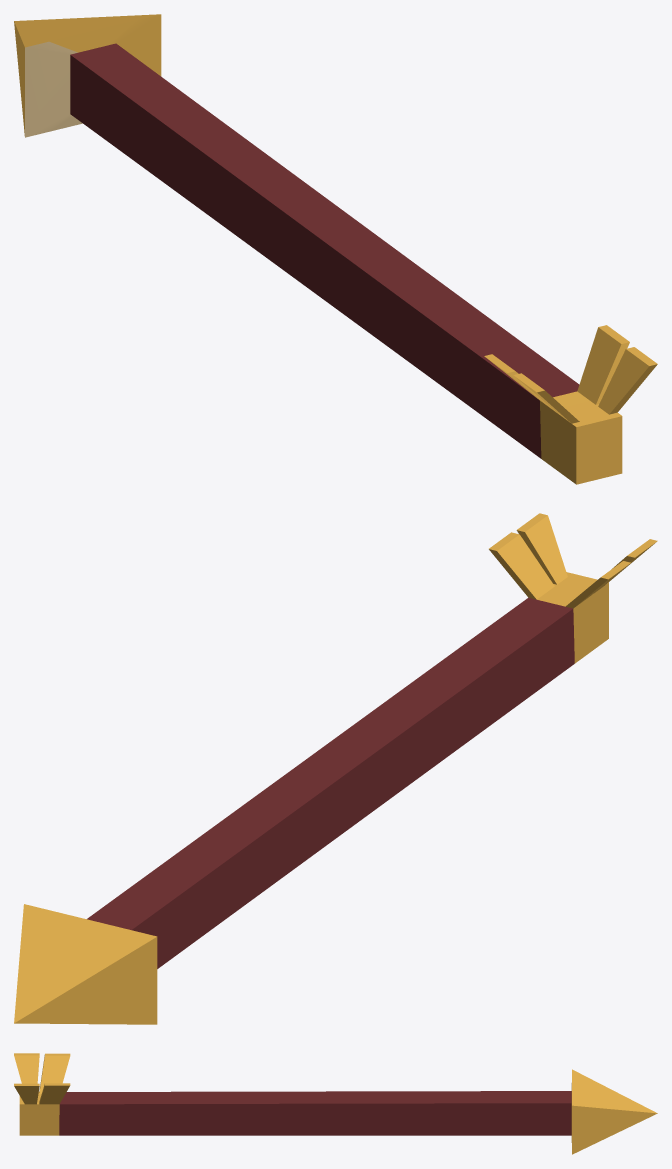
File: arrow.fbx
3 renders of one model, top to bottom at view 1: azimuth 30°, elevation 25°; view 2: azimuth 150°, elevation 25°; view 3: azimuth 270°, elevation 25°, orthographic. The views are drawn at different scales.
Visible parts, largest first — view 1: pasted__pasted__polySurface117; view 2: pasted__pasted__polySurface117; view 3: pasted__pasted__polySurface117.
Part boxes in pixels (x1,y1,x2,y2): pasted__pasted__polySurface117: [14, 14, 657, 484]; pasted__pasted__polySurface117: [14, 513, 657, 1024]; pasted__pasted__polySurface117: [14, 1053, 657, 1154].
Bounding box in the file's own units: 36.13 × 30.11 × 269.
